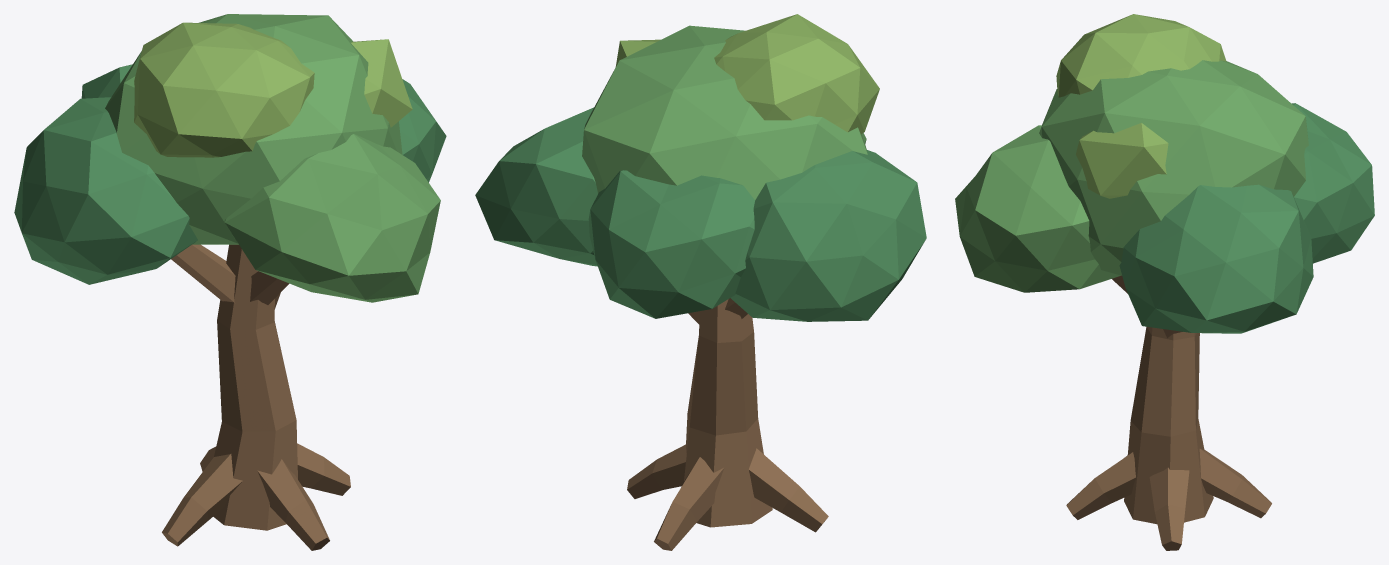
File: Cozy_Tree_Large_01_GiantOak.fbx
The picture shows the model from 3 angles, left to right: view 1: azimuth 30°, elevation 25°; view 2: azimuth 150°, elevation 25°; view 3: azimuth 270°, elevation 25°; orthographic projection. The views are drawn at different scales.
Visible parts, largest first — view 1: Cozy_Tree_Large_01_GiantOak; view 2: Cozy_Tree_Large_01_GiantOak; view 3: Cozy_Tree_Large_01_GiantOak.
Part boxes in pixels (x1,y1,x2,y2): Cozy_Tree_Large_01_GiantOak: [14, 14, 446, 550]; Cozy_Tree_Large_01_GiantOak: [475, 14, 926, 550]; Cozy_Tree_Large_01_GiantOak: [955, 14, 1374, 550].
Bounding box in the file's own units: 4.06 × 4.67 × 3.83.
